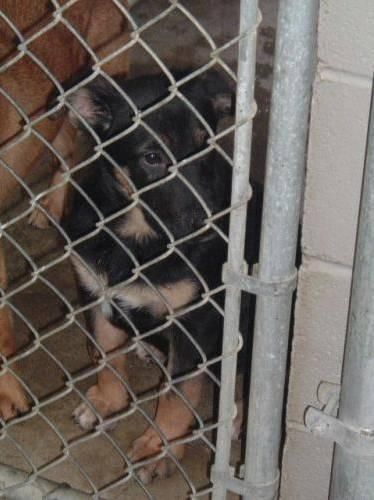dog: (29, 69, 234, 483)
